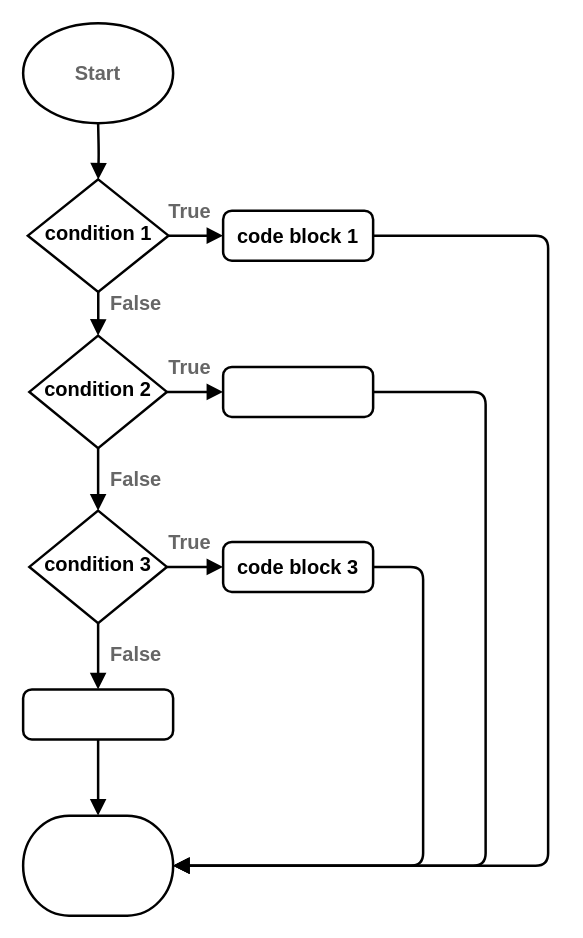
This 583x938 diagram has some shape labels left out. The shapes that lost their labels are listed below. From the top down, each one's centre as x and y in pixels, then its label:
the point at 297,391: code block 2
the point at 97,714: code block 4
the point at 97,865: End
